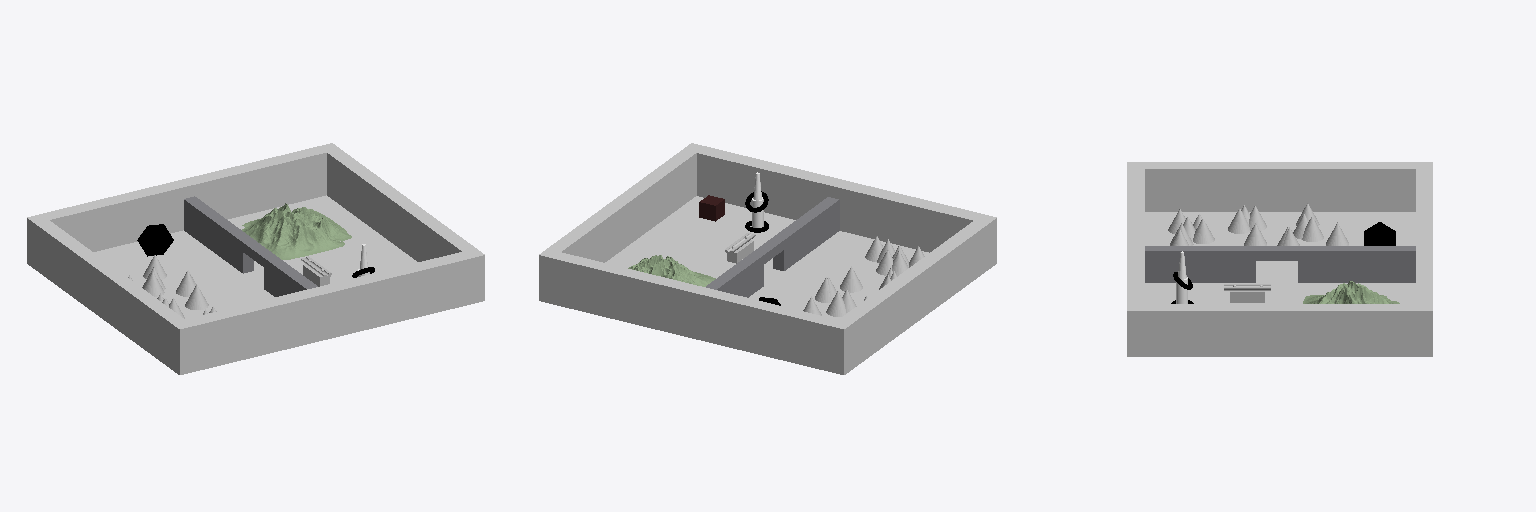
The picture shows the model from 3 angles: view 1: azimuth 30°, elevation 25°; view 2: azimuth 150°, elevation 25°; view 3: azimuth 270°, elevation 25°; orthographic projection.
Parts seen in each view (by area): view 1: Arena, Gate, Landschaft, Platonischer_Körper; view 2: Arena, Gate, Landschaft, Würfel; view 3: Arena, Gate, Landschaft, Platonischer_Körper.
Part boxes in pixels (bbox=[...]): Arena: bbox=[27, 143, 484, 374]; Gate: bbox=[184, 196, 317, 296]; Landschaft: bbox=[242, 203, 351, 259]; Platonischer_Körper: bbox=[137, 224, 173, 256]; Arena: bbox=[539, 143, 996, 374]; Gate: bbox=[706, 197, 839, 297]; Landschaft: bbox=[628, 255, 715, 286]; Würfel: bbox=[699, 195, 724, 221]; Arena: bbox=[1127, 162, 1432, 356]; Gate: bbox=[1145, 246, 1415, 282]; Landschaft: bbox=[1303, 281, 1399, 303]; Platonischer_Körper: bbox=[1364, 222, 1395, 245].
Size of the model in its own units: 20887 by 4250 by 18121.